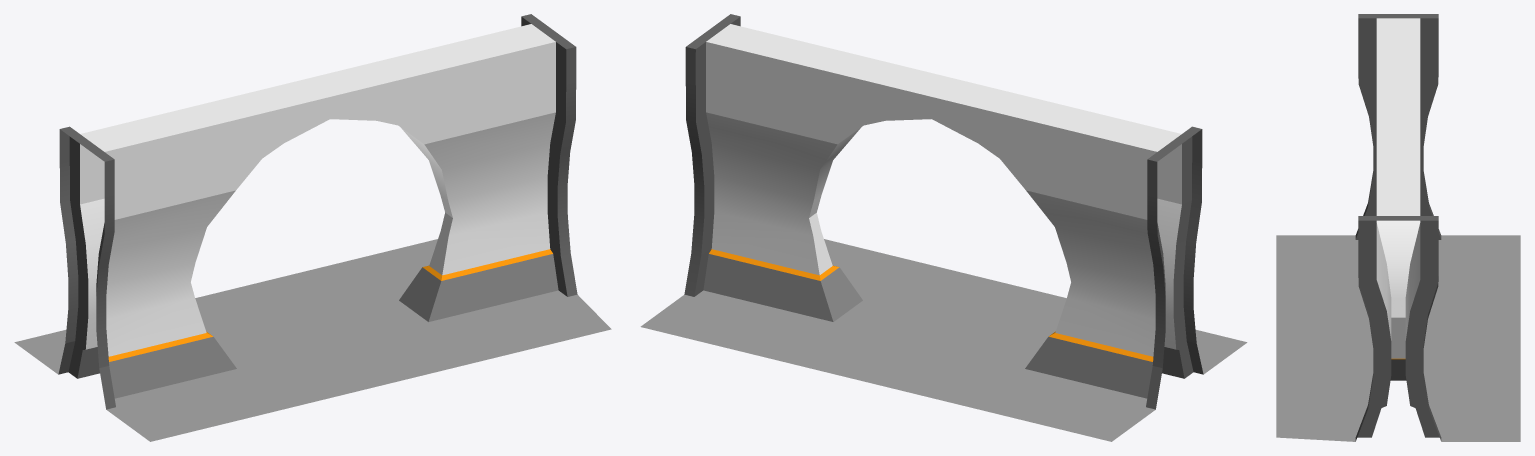
The model's file is SM_InteriorDoor_02.fbx.
The picture shows the model from 3 angles, left to right: view 1: azimuth 30°, elevation 25°; view 2: azimuth 150°, elevation 25°; view 3: azimuth 270°, elevation 25°; orthographic projection. The views are drawn at different scales.
Visible parts, largest first — view 1: SM_InteriorDoor_02; view 2: SM_InteriorDoor_02; view 3: SM_InteriorDoor_02.
Part boxes in pixels (x1,y1,x2,y2): SM_InteriorDoor_02: [14, 14, 611, 441]; SM_InteriorDoor_02: [640, 14, 1247, 441]; SM_InteriorDoor_02: [1276, 14, 1520, 441].
Size of the model in its own units: 400 by 200 by 200.
